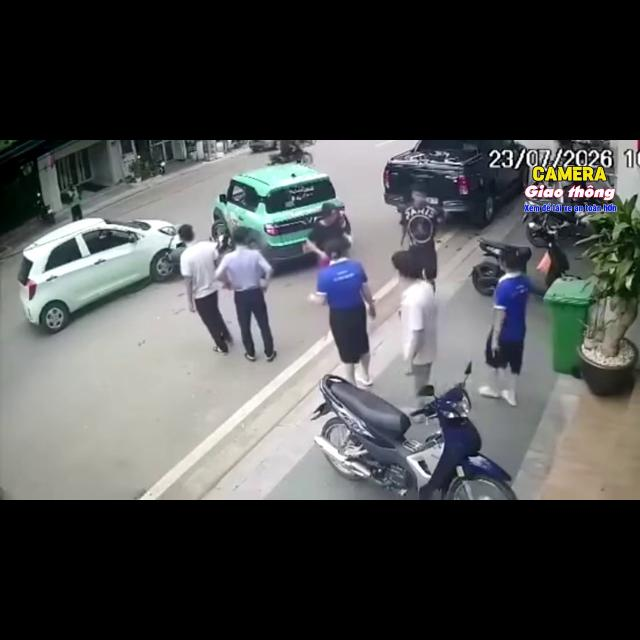car: (18, 219, 177, 333), (212, 164, 349, 264), (383, 140, 529, 227), (248, 140, 278, 151)
motorcycle: (312, 363, 516, 499), (523, 213, 576, 294), (471, 238, 531, 295), (529, 211, 592, 239), (269, 146, 312, 165), (166, 242, 186, 275), (36, 193, 55, 224), (157, 161, 165, 175)
